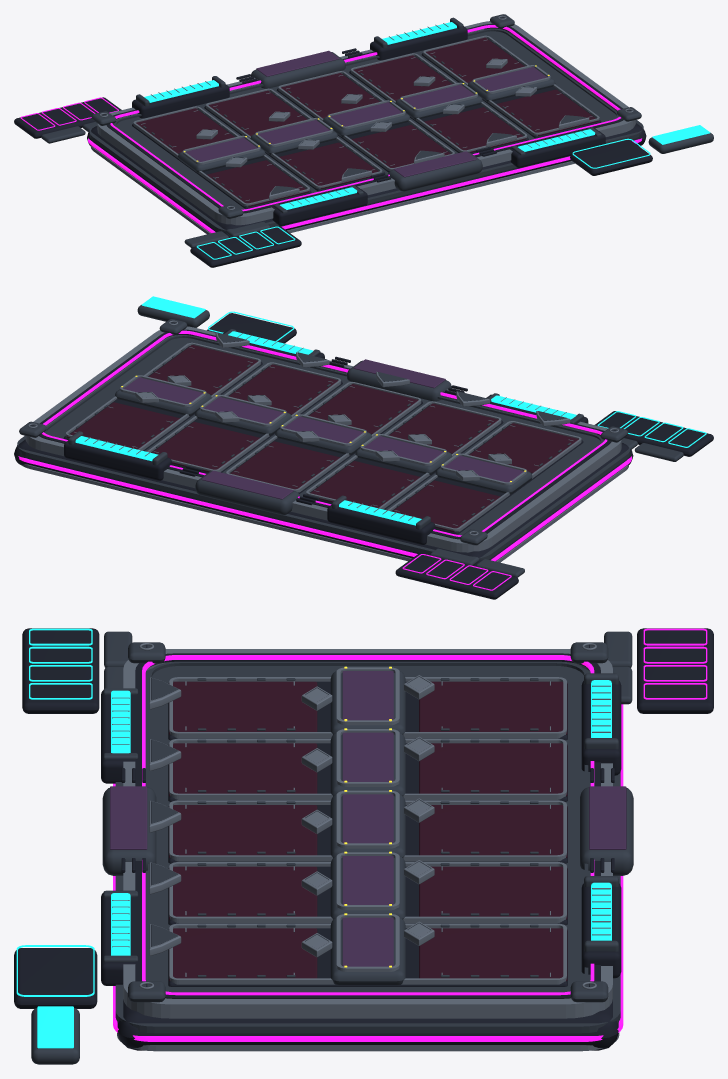
File: ouroboros-board-v3-base.glb
3 renders of one model, top to bottom at view 1: azimuth 30°, elevation 25°; view 2: azimuth 150°, elevation 25°; view 3: azimuth 270°, elevation 25°, orthographic. The views are drawn at different scales.
Visible parts, largest first — view 1: Table_wine-black_field_glass, Table_obsidian_polymer, Table_graphite_titanium, Table_milled_gunmetal, Table_Location_smoked_violet, Table_magenta_inlay, Table_cyan_Data_Center_core; view 2: Table_wine-black_field_glass, Table_graphite_titanium, Table_milled_gunmetal, Table_obsidian_polymer, Table_Location_smoked_violet, Table_magenta_inlay, Table_cyan_Data_Center_core; view 3: Table_wine-black_field_glass, Table_milled_gunmetal, Table_graphite_titanium, Table_obsidian_polymer, Table_Location_smoked_violet, Table_magenta_inlay, Table_cyan_Data_Center_core.
Part boxes in pixels (x1,y1,x2,y2): Table_wine-black_field_glass: (136,37,598,206); Table_obsidian_polymer: (14,17,652,267); Table_graphite_titanium: (41,14,713,247); Table_milled_gunmetal: (90,15,639,234); Table_Location_smoked_violet: (186,50,547,177); Table_magenta_inlay: (20,25,641,233); Table_cyan_Data_Center_core: (144,22,710,259); Table_wine-black_field_glass: (67,345,578,531); Table_graphite_titanium: (17,305,683,577); Table_milled_gunmetal: (21,320,628,562); Table_obsidian_polymer: (14,313,713,599); Table_Location_smoked_violet: (123,359,523,499); Table_magenta_inlay: (18,330,631,590); Table_cyan_Data_Center_core: (75,296,706,525); Table_wine-black_field_glass: (169,681,567,981); Table_milled_gunmetal: (112,643,619,1051); Table_graphite_titanium: (31,631,633,1064); Table_obsidian_polymer: (14,628,713,1050); Table_Location_smoked_violet: (110,671,626,966); Table_magenta_inlay: (113,628,707,1041); Table_cyan_Data_Center_core: (16,628,611,1048).
Size of the model in its own units: 19.6 by 1.5 by 13.44.
